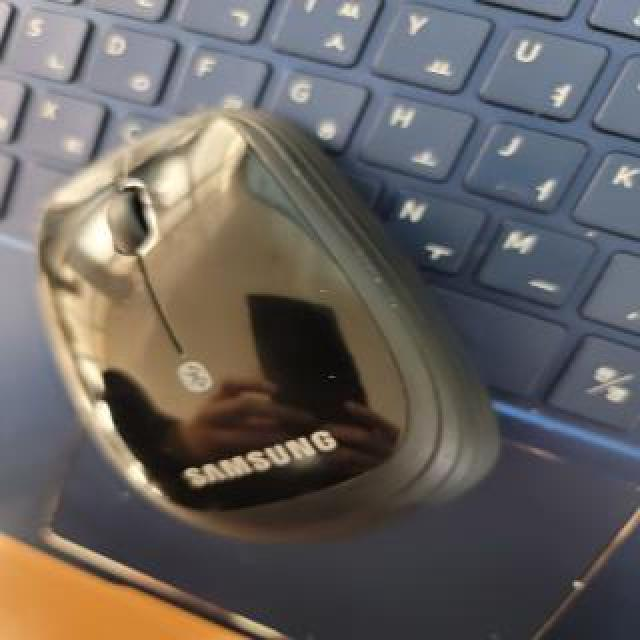laptop_computer: (0, 2, 632, 640)
mouse: (46, 116, 500, 545)
